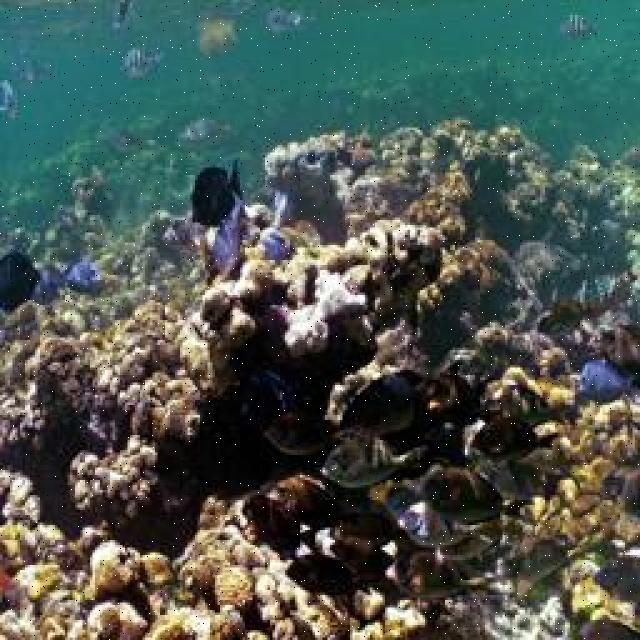fish: (317, 430, 470, 489), (420, 467, 547, 536), (337, 369, 447, 437), (264, 475, 372, 532), (400, 549, 513, 597), (240, 496, 322, 557), (555, 268, 635, 316), (468, 418, 561, 459), (285, 554, 373, 595), (192, 156, 244, 225), (398, 503, 477, 545), (0, 250, 45, 316), (211, 204, 248, 277), (593, 542, 638, 602), (577, 360, 636, 403), (601, 460, 638, 518), (598, 325, 638, 370), (61, 259, 108, 295), (175, 117, 233, 146), (121, 44, 167, 78), (29, 263, 60, 304), (197, 22, 240, 51), (559, 11, 596, 36)
reefs: (283, 270, 367, 357)
